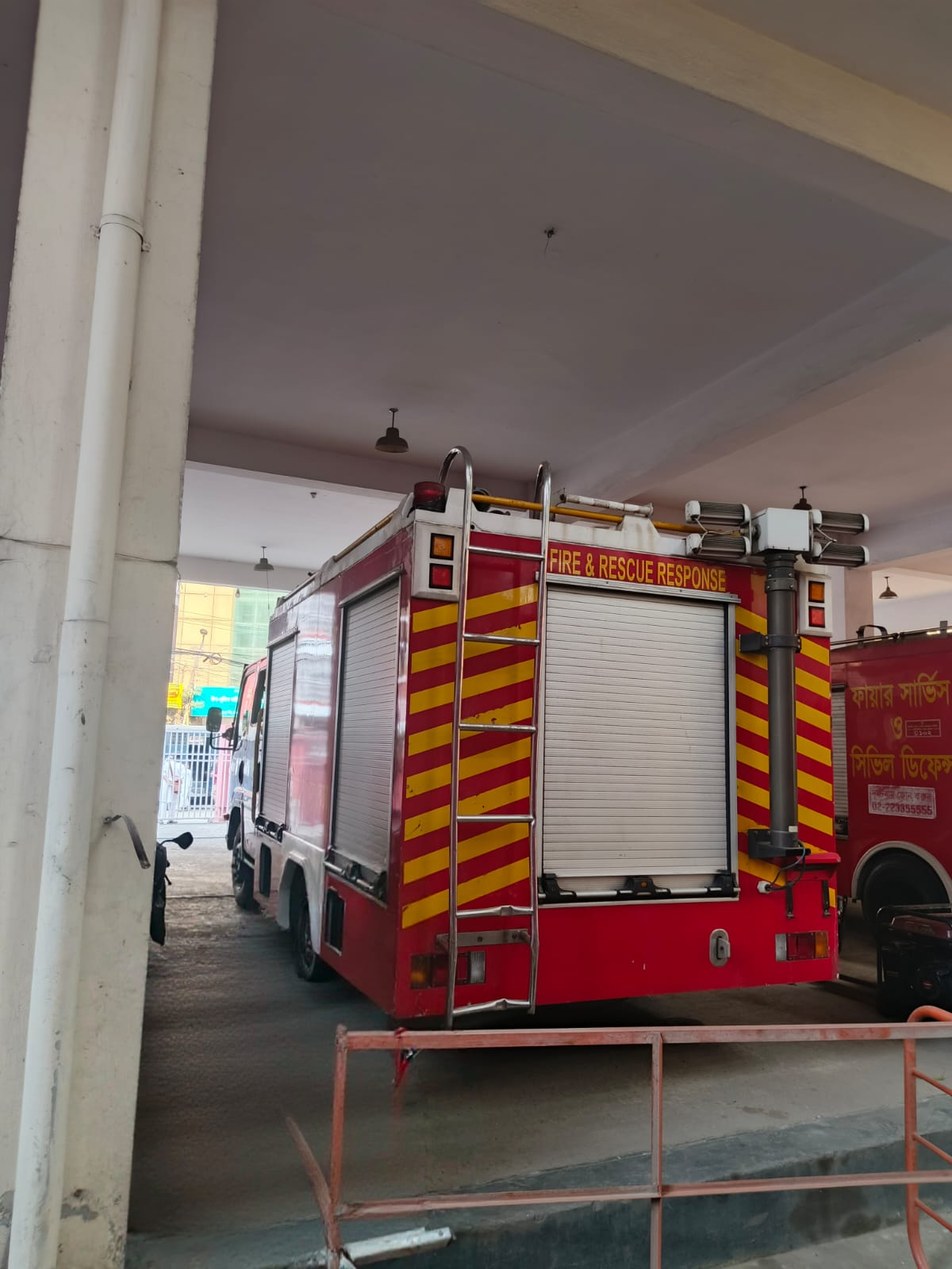Fire truck: (222, 438, 873, 1028)
